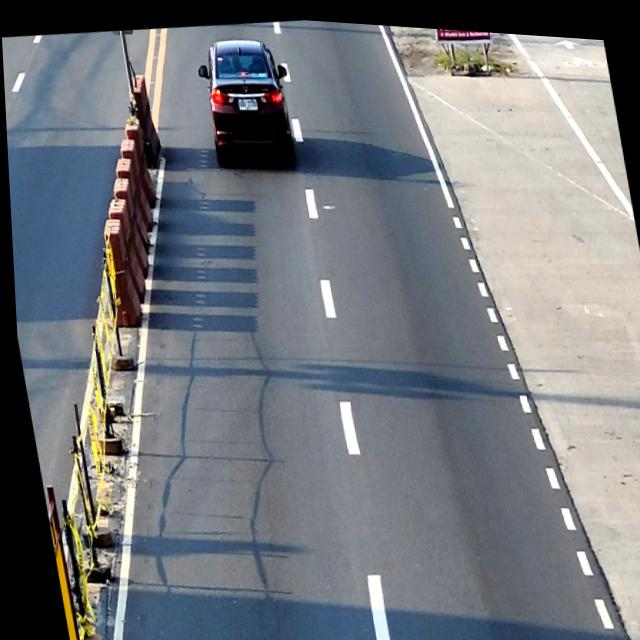Car: (191, 27, 301, 172)
License-Plate: (236, 92, 257, 108)
